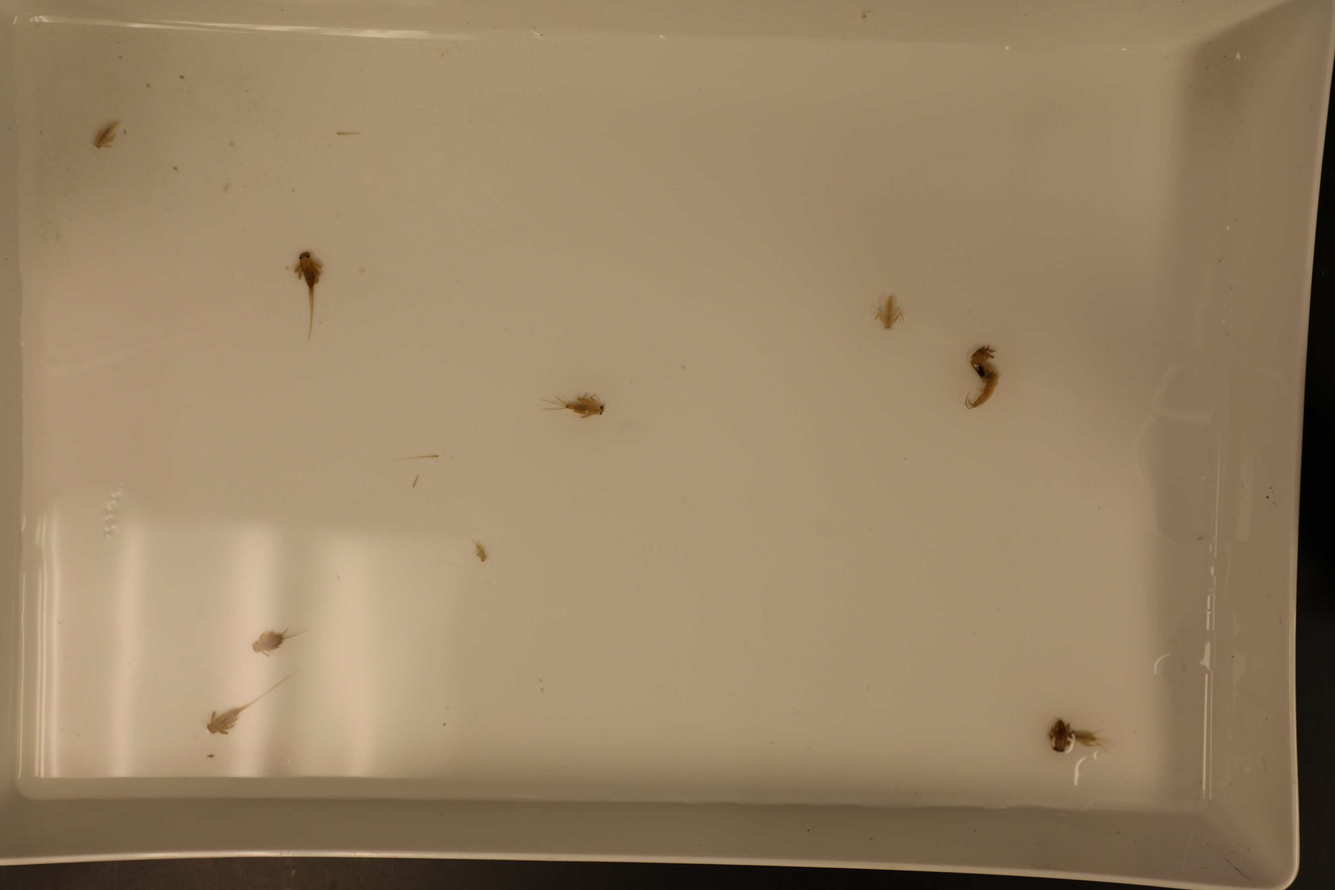Mayfly: (203, 674, 292, 736), (282, 253, 327, 335), (963, 342, 1002, 409), (545, 390, 616, 418), (865, 289, 907, 335), (89, 112, 125, 157), (244, 627, 297, 652), (1065, 730, 1110, 746), (471, 533, 487, 571), (1049, 715, 1065, 751)
